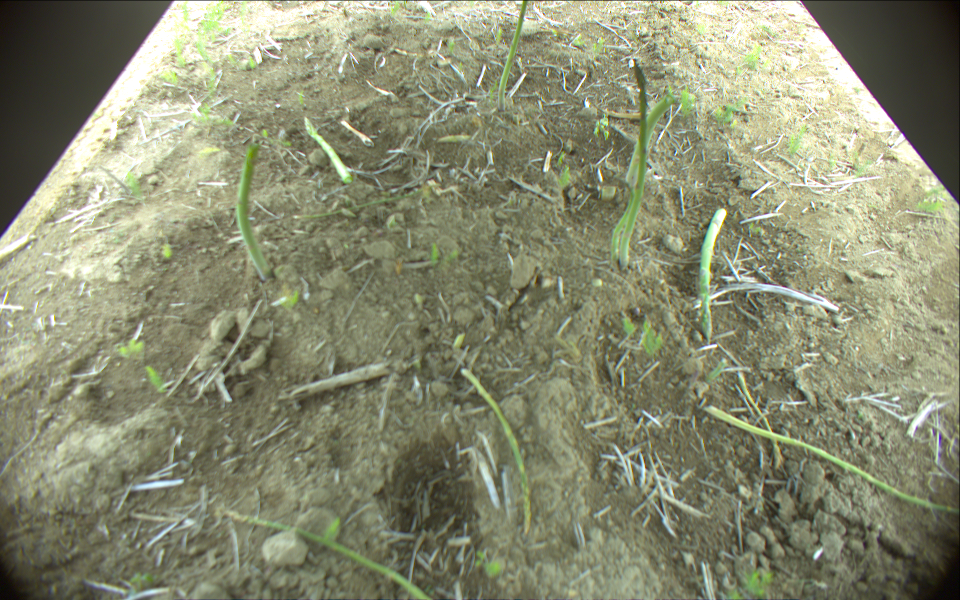aspa: (705, 405, 960, 512), (220, 509, 428, 600), (460, 369, 531, 535), (619, 62, 647, 271), (628, 92, 678, 184), (236, 145, 268, 280), (699, 206, 727, 348), (497, 1, 529, 111), (304, 117, 352, 183), (611, 176, 634, 258)
